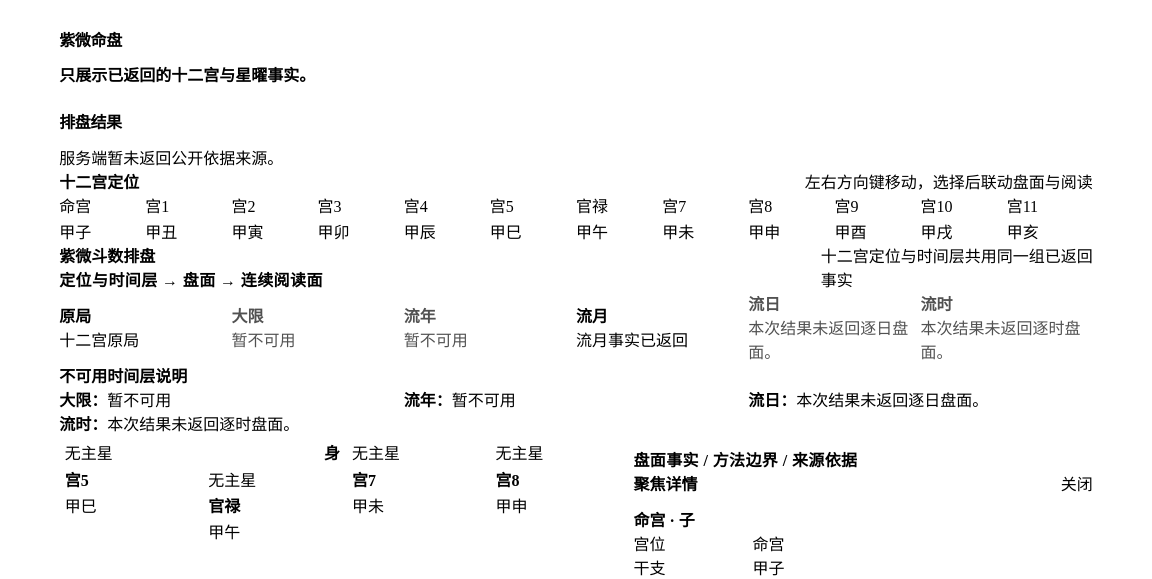
Test: bazi chart workspace › carries the typed Ziwei entitlement sibling through to readable month facts
The image size is (1152, 579).
Click the button "流月" at (662, 326), box [576,290,748,362]
(page scrolled)
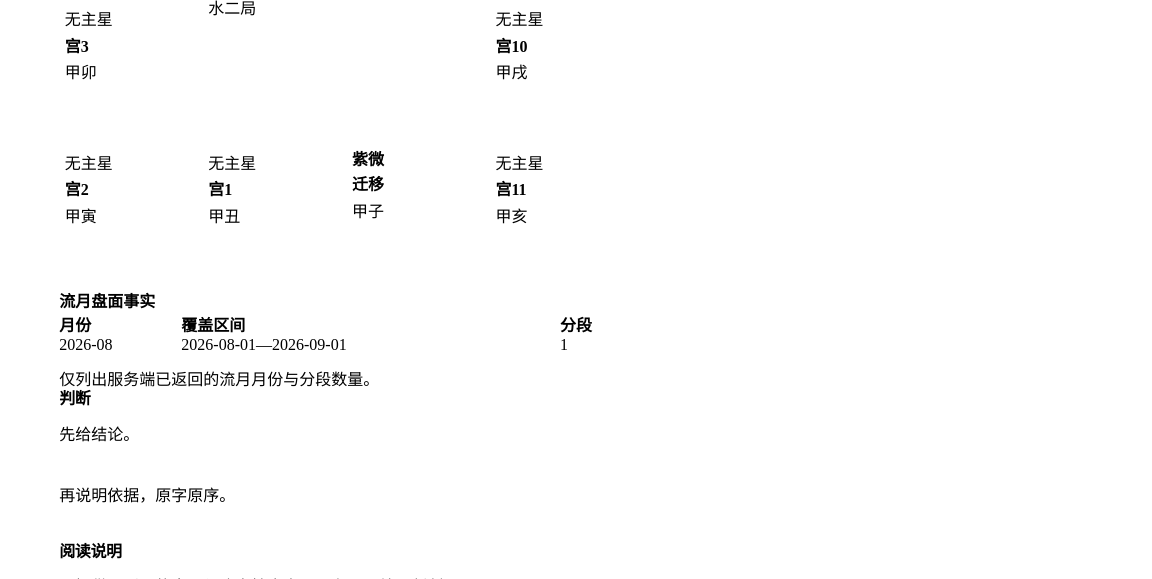
Expected: the table "流月盘面事实" shows "2026-08", [59,336,112,353]
